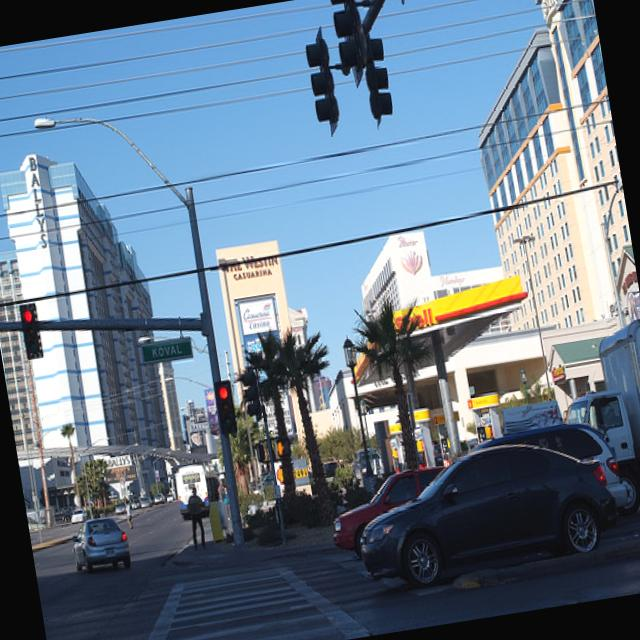Vehicle: (348, 429, 624, 597), (550, 315, 640, 524), (472, 418, 629, 529), (316, 458, 458, 550), (69, 512, 133, 580), (350, 445, 386, 483), (70, 508, 88, 524), (114, 502, 127, 516), (154, 492, 168, 504), (130, 496, 141, 509), (166, 493, 174, 502)
